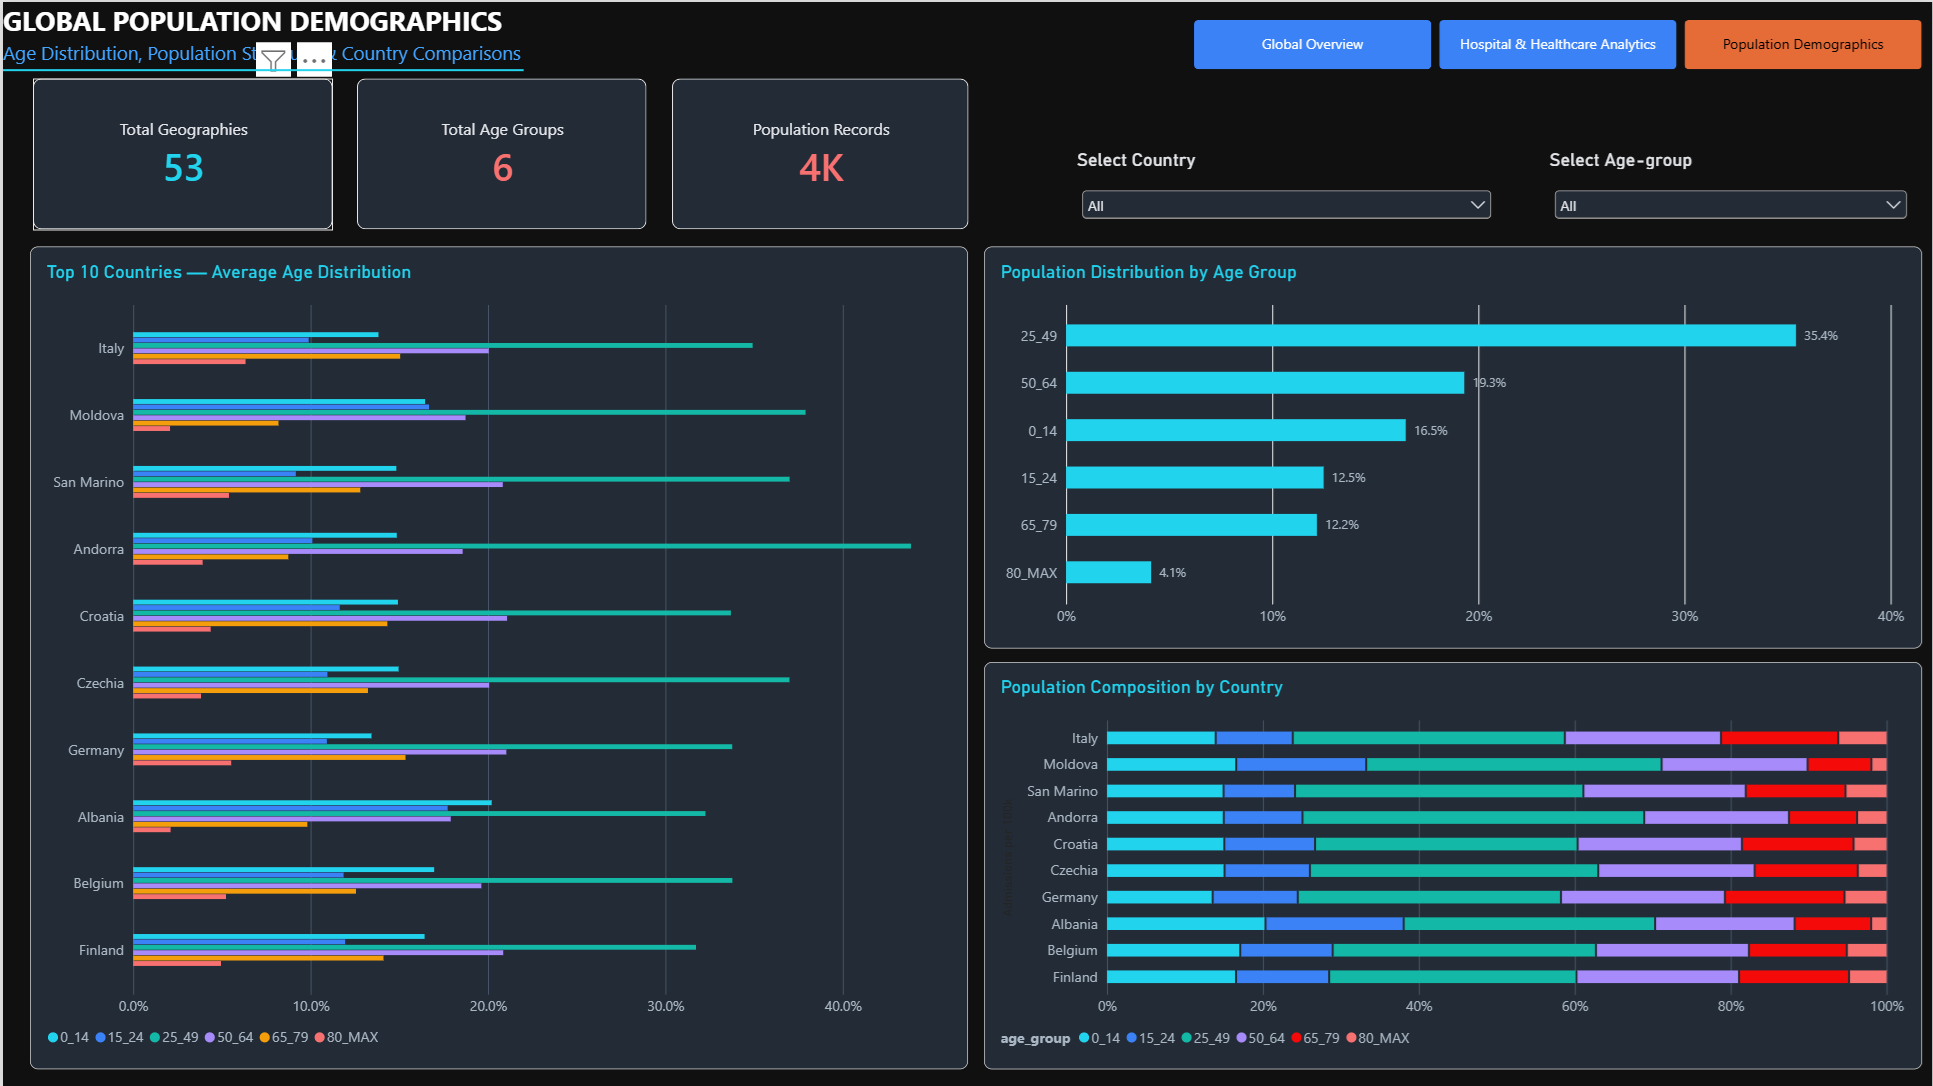

What the dashboard file says about the page in this screenshot:
{"tool":"powerbi","page":{"name":"Population Demographics","canvas":[1920,1080],"ordinal":2},"visuals":[{"type":"textbox","box":[0,0,498.3,36.7],"z":0},{"type":"textbox","box":[0,36.7,680,35],"z":1000},{"type":"cardVisual","fields":{"Data":["DAX_Measures.Total Geographies"]},"box":[30,76.7,298.3,150],"z":2000},{"type":"cardVisual","fields":{"Data":["DAX_Measures.Total Age Groups"]},"box":[351.7,76.7,288.3,150],"z":3000},{"type":"cardVisual","fields":{"Data":["DAX_Measures.Population Records"]},"box":[665,76.7,295,150],"z":4000},{"type":"clusteredBarChart","title":"Population Distribution by Age Group","fields":{"Category":["analytics dim_age_group.age_group"],"Y":["DAX_Measures.Average Population Percentage"]},"box":[976.7,243.3,933.3,400],"z":5000},{"type":"clusteredBarChart","title":"Top 10 Countries — Average Age Distribution","fields":{"Category":["analytics dim_country.country_name"],"Series":["analytics dim_age_group.age_group"],"Y":["DAX_Measures.Average Population Percentage"]},"box":[26.7,243.3,933.3,818.3],"z":6000},{"type":"hundredPercentStackedBarChart","title":"Population Composition by Country","fields":{"Category":["analytics dim_country.country_name"],"Series":["analytics dim_age_group.age_group"],"Y":["DAX_Measures.Average Population Percentage"]},"box":[976.7,656.7,933.3,405],"z":7000},{"type":"slicer","title":"Select Country","fields":{"Values":["analytics dim_country.country_name"]},"box":[1068.3,146.7,416.7,80],"z":8000},{"type":"slicer","title":"Select Age-group","fields":{"Values":["analytics dim_age_group.age_group"]},"box":[1538.3,146.7,360,75],"z":9000},{"type":"pageNavigator","box":[1184.9,17.6,724.7,50],"z":10000},{"type":"shape","box":[0,53.6,518.2,28.2],"z":11000}]}

Visuals, with their boxes in screenshot pixels (x1, y1, x2, y2), scaled from the page's 1920x1080 canvas onto the 1933x1086 screenshot:
textbox: 0/0/502/37
textbox: 0/37/685/72
cardVisual - DAX_Measures.Total Geographies: 30/77/331/228
cardVisual - DAX_Measures.Total Age Groups: 354/77/644/228
cardVisual - DAX_Measures.Population Records: 670/77/966/228
"Population Distribution by Age Group" clusteredBarChart: 983/245/1923/647
"Top 10 Countries — Average Age Distribution" clusteredBarChart: 27/245/966/1067
"Population Composition by Country" hundredPercentStackedBarChart: 983/660/1923/1068
"Select Country" slicer: 1076/148/1495/228
"Select Age-group" slicer: 1549/148/1911/223
pageNavigator: 1193/18/1923/68
shape: 0/54/522/82
